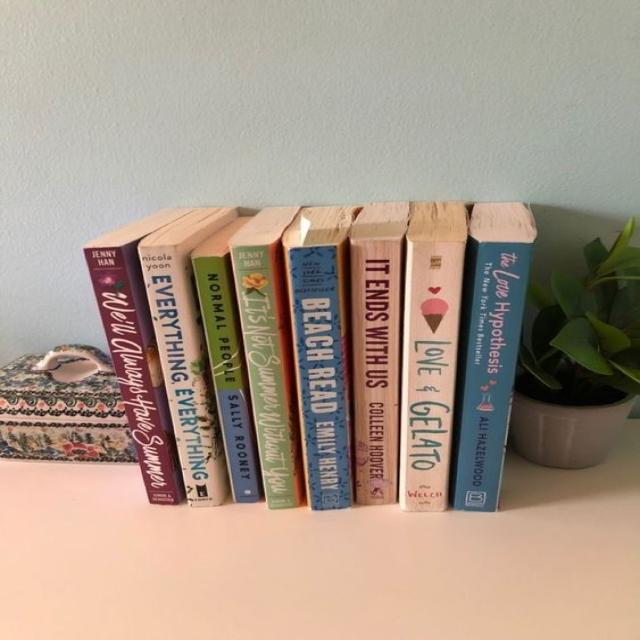book: (87, 246, 179, 504), (453, 242, 532, 511), (138, 247, 216, 507), (229, 245, 300, 510), (289, 248, 354, 510), (194, 256, 260, 502), (406, 240, 464, 510), (352, 240, 401, 504)
